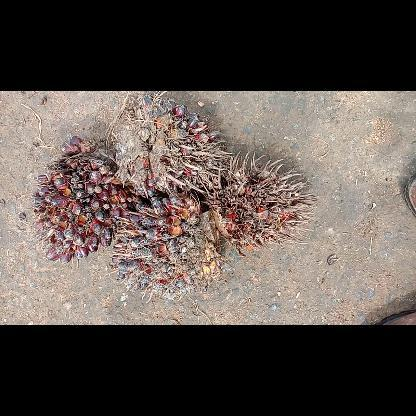TBS abnormal: (106, 90, 232, 198), (31, 136, 136, 262), (110, 193, 222, 301), (198, 152, 318, 250)
